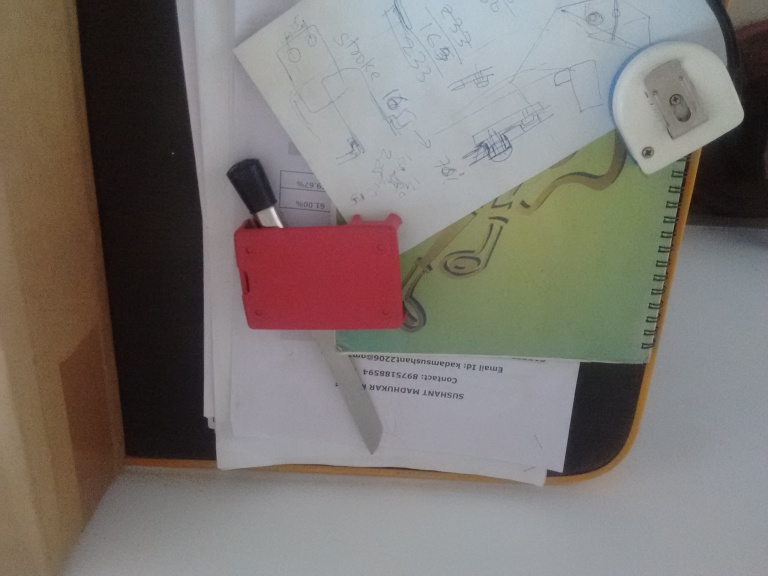knife: (313, 329, 385, 458)
